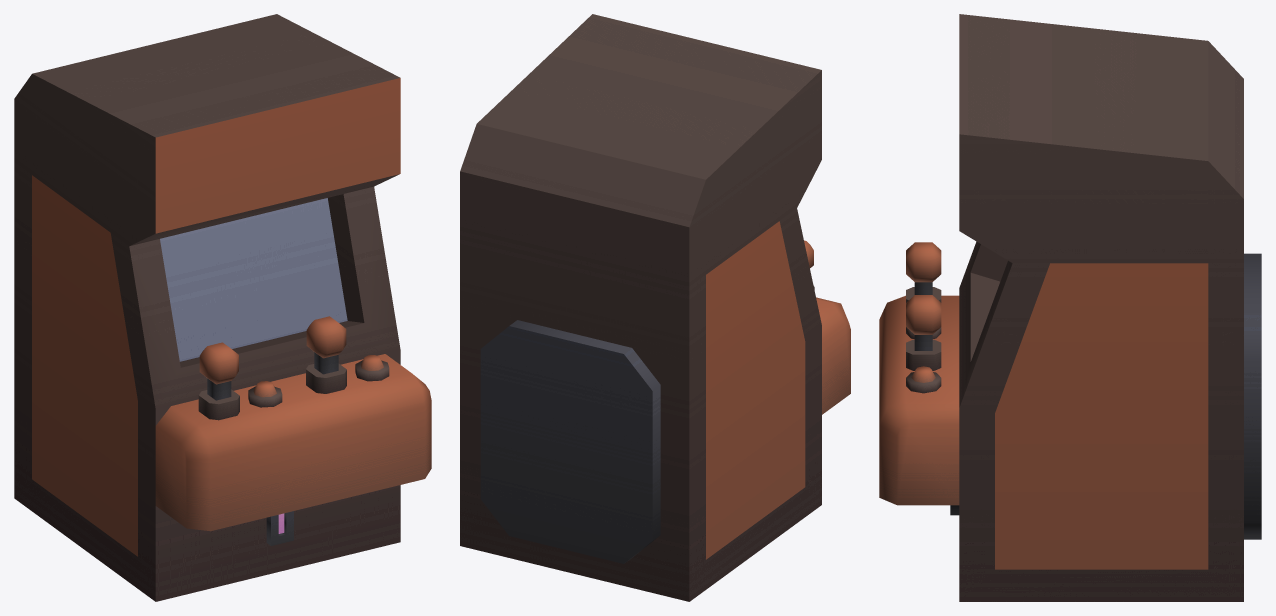
Rendered from ingredient_arcade_machine.glb.
3 renders of one model, left to right at view 1: azimuth 30°, elevation 25°; view 2: azimuth 150°, elevation 25°; view 3: azimuth 270°, elevation 25°, orthographic. The views are drawn at different scales.
Parts seen in each view (by area): view 1: arcade-machine; view 2: arcade-machine; view 3: arcade-machine.
Part boxes in pixels (x1,y1,x2,y2): arcade-machine: (14,14,431,601); arcade-machine: (460,14,850,601); arcade-machine: (879,14,1261,601).
Size of the model in its own units: 0.4 by 0.725 by 0.5375.
1 material, 1 textured.
